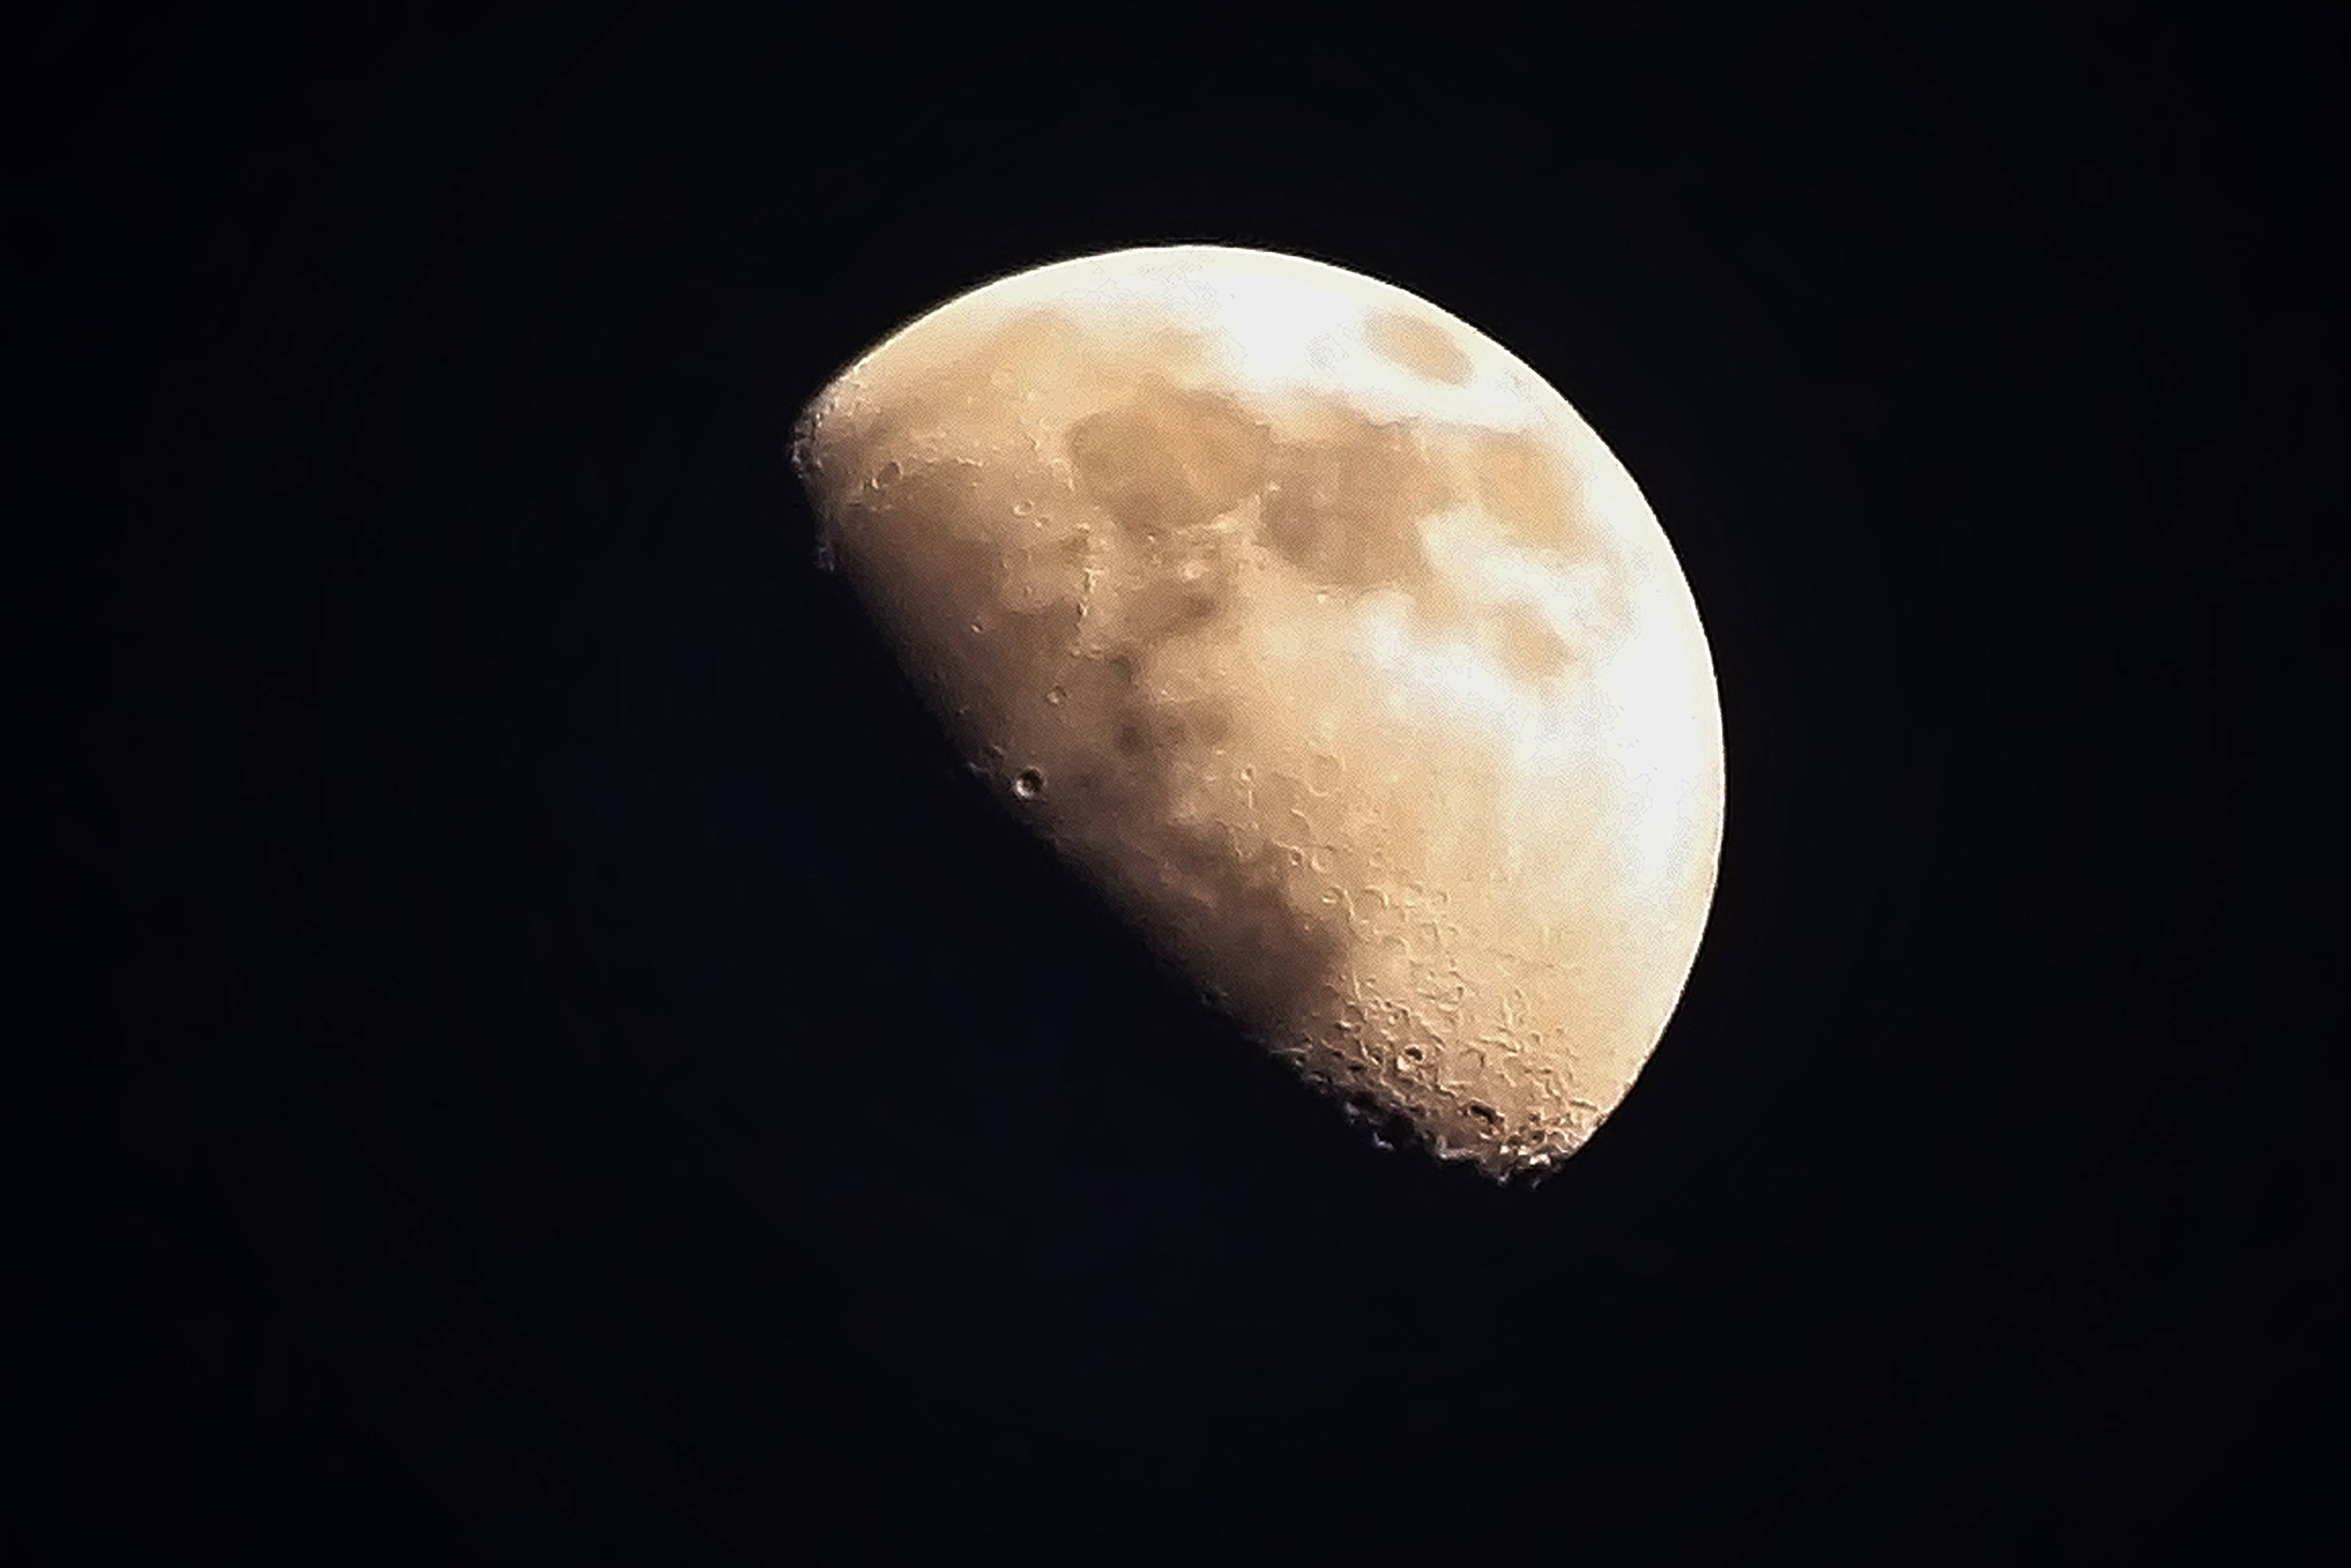crater: (1000, 744, 1080, 814), (1295, 742, 1364, 800), (1390, 1031, 1444, 1087), (863, 453, 924, 499), (1035, 672, 1092, 719), (1005, 485, 1061, 532), (1301, 574, 1357, 621), (954, 590, 1000, 644)
